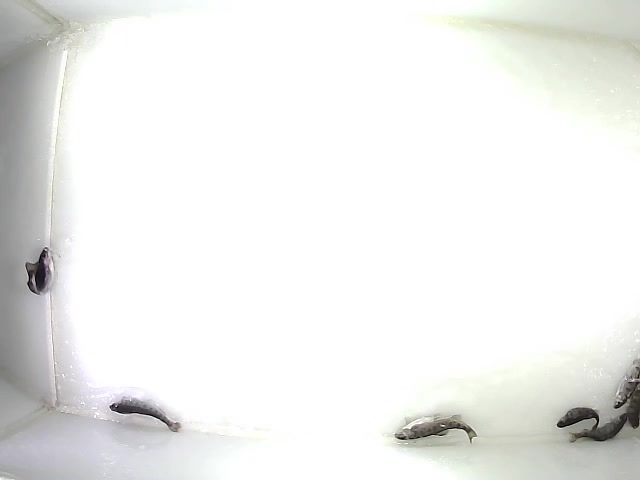fish: (392, 412, 478, 446), (109, 396, 182, 434), (568, 412, 629, 444), (24, 246, 56, 298), (612, 356, 640, 410), (556, 406, 601, 434)
